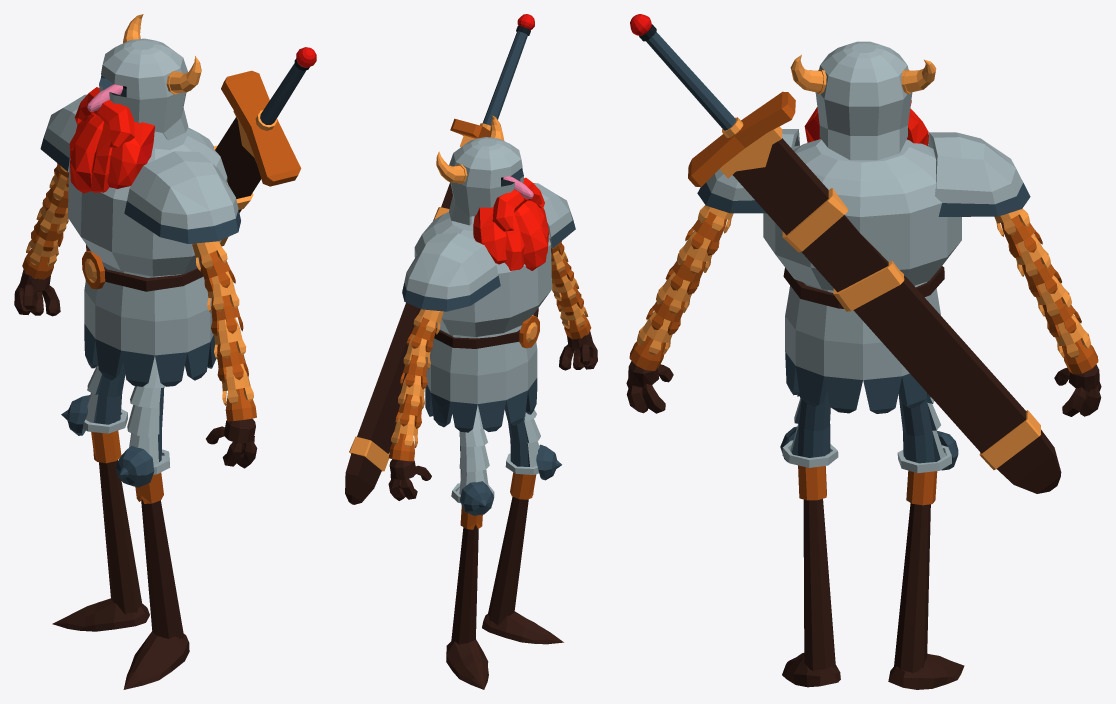
File: hero.obj
3 views of the same model, side by side, from view 1: azimuth 30°, elevation 25°; view 2: azimuth 150°, elevation 25°; view 3: azimuth 270°, elevation 25° (orthographic). The views are drawn at different scales.
Visible parts, largest first — view 1: group1477189456, group433037720, group583455388, group1977948371, group1036236753, group1354248907, group750357067, group699281322, group720862975, group2133370510, group2128036144, group519165365 (+2 smaller); view 2: group1477189456, group1977948371, group1762388342, group433037720, group1036236753, group2133370510, group720862975, group699281322, group750357067, group1354248907, group519165365, group2128036144 (+2 smaller); view 3: group1977948371, group433037720, group1477189456, group1036236753, group1354248907, group2133370510, group750357067, group699281322, group1762388342, group519165365, group2128036144, group583455388 (+2 smaller).
Part boxes in pixels (x1,y1,x2,y2): group1477189456: [84, 261, 216, 386]; group433037720: [67, 127, 227, 276]; group583455388: [124, 151, 240, 243]; group1977948371: [213, 47, 316, 246]; group1036236753: [87, 14, 201, 140]; group1354248907: [192, 241, 257, 468]; group750357067: [52, 430, 149, 631]; group699281322: [123, 472, 189, 689]; group720862975: [69, 87, 154, 193]; group2133370510: [14, 163, 68, 316]; group2128036144: [116, 356, 170, 487]; group519165365: [61, 362, 127, 435]; group1477189456: [425, 325, 537, 432]; group1977948371: [345, 14, 534, 504]; group1762388342: [402, 233, 500, 311]; group433037720: [414, 212, 551, 336]; group1036236753: [436, 115, 533, 225]; group2133370510: [388, 309, 443, 500]; group720862975: [473, 177, 548, 270]; group699281322: [482, 472, 563, 644]; group750357067: [446, 505, 488, 689]; group1354248907: [551, 241, 597, 370]; group519165365: [451, 404, 494, 515]; group2128036144: [505, 409, 561, 480]; group1977948371: [630, 14, 1061, 493]; group433037720: [763, 139, 961, 290]; group1477189456: [785, 281, 940, 413]; group1036236753: [790, 41, 936, 160]; group1354248907: [626, 205, 733, 413]; group2133370510: [994, 208, 1101, 416]; group750357067: [888, 470, 964, 689]; group699281322: [782, 465, 840, 687]; group1762388342: [928, 132, 1030, 216]; group519165365: [897, 391, 958, 473]; group2128036144: [780, 391, 838, 467]; group583455388: [697, 129, 799, 213].
Size of the model in its own units: 1.09 by 4.59 by 2.8.
